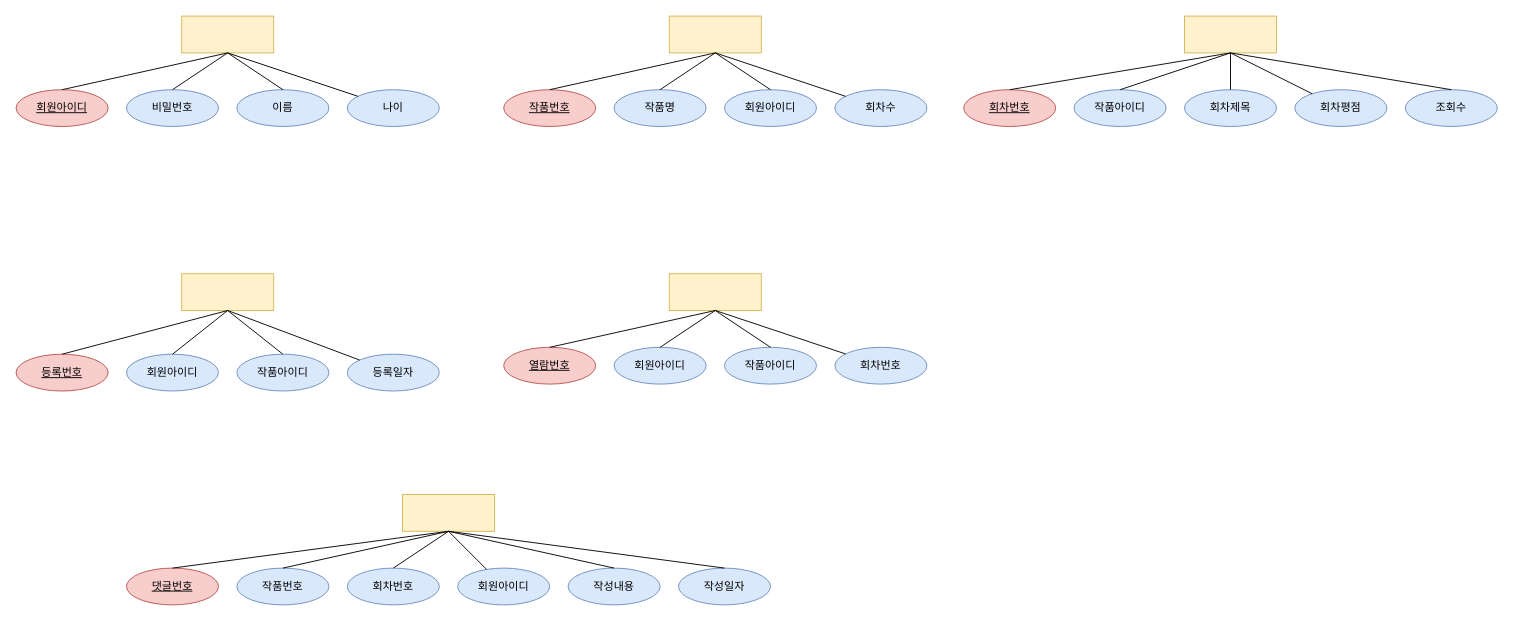
The diagram is 1513 pixels wide and 621 high, and some of its shapes have lost their labels. Here are the shapes that lost their labels. From the top down, the box of each, then its label:
(181, 15, 274, 53): 회원
(668, 15, 761, 53): 작품
(1184, 15, 1276, 53): 회차
(181, 273, 274, 310): 작품등록
(668, 273, 761, 310): 열람
(402, 494, 494, 531): 댓글
